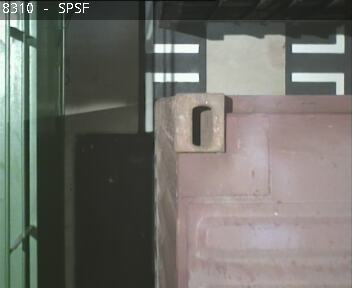groundmarker_1: (145, 2, 198, 131)
